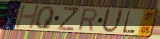H: (13, 5, 41, 30)
L: (122, 10, 136, 34)
Q: (34, 6, 56, 31)
R: (77, 8, 98, 32)
U: (100, 7, 125, 34)
Z: (56, 6, 80, 32)
